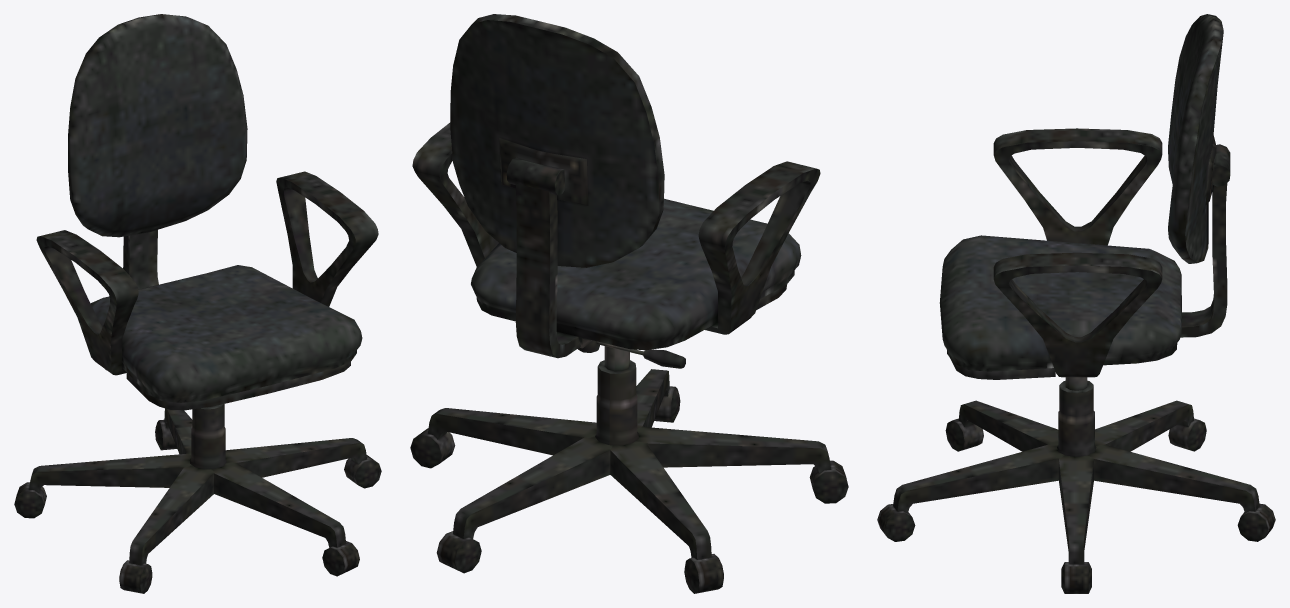
Rendered from 057_officechair.fbx.
The picture shows the model from 3 angles, left to right: view 1: azimuth 30°, elevation 25°; view 2: azimuth 150°, elevation 25°; view 3: azimuth 270°, elevation 25°; orthographic projection. The views are drawn at different scales.
Visible parts, largest first — view 1: LOD_1_Group_5_Sub_1__sm30_057_OfficeChair_A_Mat, LOD_1_Group_3_Sub_1__sm30_057_OfficeChair_A_Mat, LOD_1_Group_0_Sub_1__sm30_057_OfficeChair_A_Mat, LOD_1_Group_1_Sub_1__sm30_057_OfficeChair_A_Mat, LOD_1_Group_4_Sub_1__sm30_057_OfficeChair_A_Mat; view 2: LOD_1_Group_5_Sub_1__sm30_057_OfficeChair_A_Mat, LOD_1_Group_0_Sub_1__sm30_057_OfficeChair_A_Mat, LOD_1_Group_3_Sub_1__sm30_057_OfficeChair_A_Mat, LOD_1_Group_1_Sub_1__sm30_057_OfficeChair_A_Mat, LOD_1_Group_4_Sub_1__sm30_057_OfficeChair_A_Mat; view 3: LOD_1_Group_0_Sub_1__sm30_057_OfficeChair_A_Mat, LOD_1_Group_3_Sub_1__sm30_057_OfficeChair_A_Mat, LOD_1_Group_1_Sub_1__sm30_057_OfficeChair_A_Mat, LOD_1_Group_5_Sub_1__sm30_057_OfficeChair_A_Mat, LOD_1_Group_4_Sub_1__sm30_057_OfficeChair_A_Mat.
Boxes of the visible parts, x1=… form: LOD_1_Group_5_Sub_1__sm30_057_OfficeChair_A_Mat: x1=68, y1=14, x2=247, y2=237; LOD_1_Group_3_Sub_1__sm30_057_OfficeChair_A_Mat: x1=90, y1=265, x2=362, y2=410; LOD_1_Group_0_Sub_1__sm30_057_OfficeChair_A_Mat: x1=14, y1=404, x2=381, y2=593; LOD_1_Group_1_Sub_1__sm30_057_OfficeChair_A_Mat: x1=36, y1=171, x2=378, y2=375; LOD_1_Group_4_Sub_1__sm30_057_OfficeChair_A_Mat: x1=123, y1=230, x2=158, y2=289; LOD_1_Group_5_Sub_1__sm30_057_OfficeChair_A_Mat: x1=450, y1=14, x2=664, y2=267; LOD_1_Group_0_Sub_1__sm30_057_OfficeChair_A_Mat: x1=410, y1=360, x2=848, y2=593; LOD_1_Group_3_Sub_1__sm30_057_OfficeChair_A_Mat: x1=471, y1=198, x2=801, y2=350; LOD_1_Group_1_Sub_1__sm30_057_OfficeChair_A_Mat: x1=412, y1=122, x2=820, y2=371; LOD_1_Group_4_Sub_1__sm30_057_OfficeChair_A_Mat: x1=506, y1=157, x2=580, y2=358; LOD_1_Group_0_Sub_1__sm30_057_OfficeChair_A_Mat: x1=877, y1=380, x2=1275, y2=593; LOD_1_Group_3_Sub_1__sm30_057_OfficeChair_A_Mat: x1=939, y1=235, x2=1181, y2=379; LOD_1_Group_1_Sub_1__sm30_057_OfficeChair_A_Mat: x1=993, y1=128, x2=1162, y2=390; LOD_1_Group_5_Sub_1__sm30_057_OfficeChair_A_Mat: x1=1168, y1=14, x2=1223, y2=263; LOD_1_Group_4_Sub_1__sm30_057_OfficeChair_A_Mat: x1=1180, y1=144, x2=1230, y2=337.
Size of the model in its own units: 0.6691 by 0.9408 by 0.7033.
